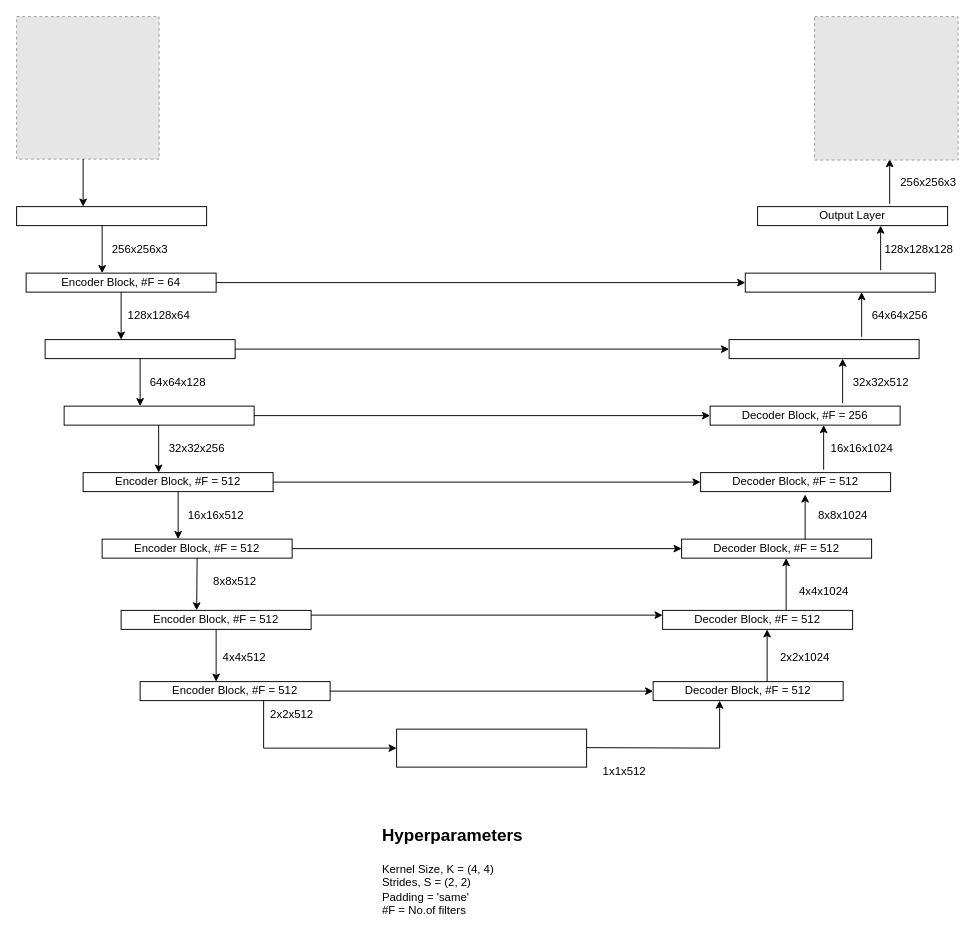
Some shapes in this 975 by 945 pixel diagram are drawn without their labels. Grey dashed boxes stand in for pictures. The shapes that lost their labels are listed below. From the top down, each one's box as (x1, y1, x2, y2) in pixels, then its label:
(16, 206, 207, 226): Input Layer
(744, 272, 935, 292): Decoder Block, #F = 64
(44, 339, 235, 359): Encoder Block, #F = 128
(728, 339, 919, 359): Decoder Block, #F = 128
(63, 405, 254, 425): Encoder Block, #F = 256
(396, 728, 587, 767): Bottleneck layer, #F = 512
